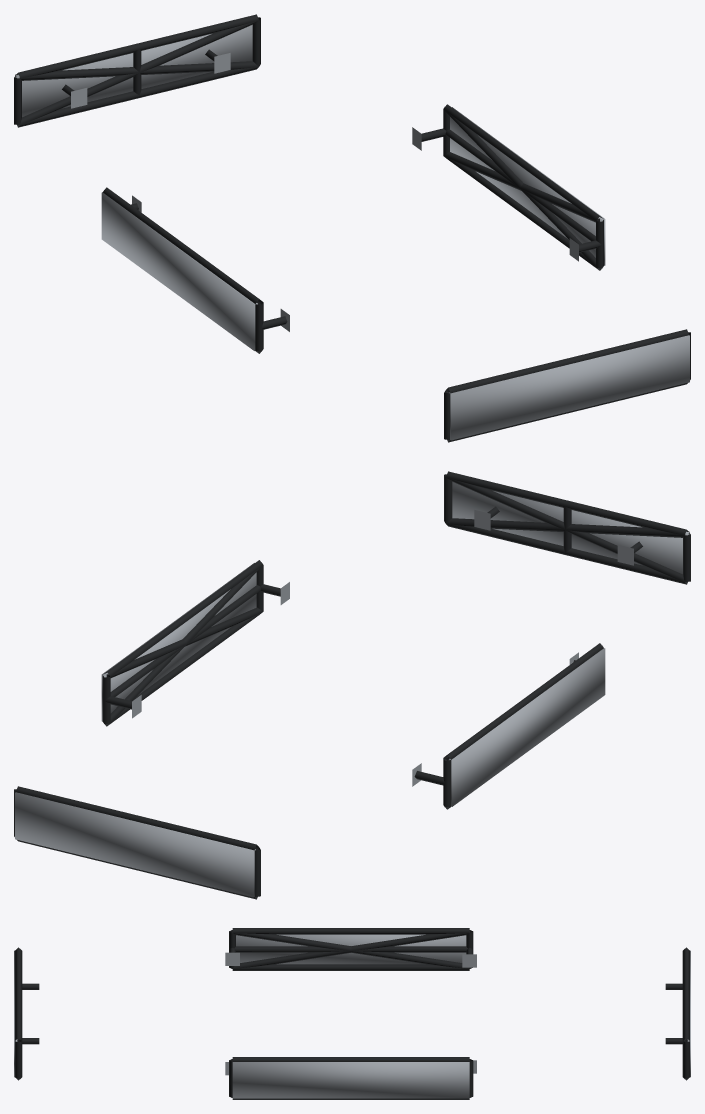
The model's file is corsalto_ocre_protecao.glb.
3 renders of one model, top to bottom at view 1: azimuth 30°, elevation 25°; view 2: azimuth 150°, elevation 25°; view 3: azimuth 270°, elevation 25°, orthographic. The views are drawn at different scales.
Parts seen in each view (by area): view 1: Protection_front_Level3_Details, Protection_left_Level3_Details, Protection_rear_Level3_Details, Protection_rear_Level1_Details, Protection_right_Level1_Details, Protection_rear_Level2_Details, Protection_right_Level2_Details, Protection_right_Level3_Details, Protection_front_Level1_Details, Protection_left_Level1_Details; view 2: Protection_rear_Level3_Details, Protection_left_Level3_Details, Protection_front_Level3_Details, Protection_front_Level1_Details, Protection_right_Level1_Details, Protection_front_Level2_Details, Protection_right_Level2_Details, Protection_right_Level3_Details, Protection_rear_Level1_Details, Protection_left_Level1_Details; view 3: Protection_right_Level3_Details, Protection_left_Level2_Details, Protection_left_Level3_Details, Protection_left_Level1_Details, Protection_right_Level1_Details, Protection_rear_Level1_Details, Protection_front_Level1_Details.
Boxes of the visible parts, <box> form: Protection_front_Level3_Details: <box>449,335,689,440</box>; Protection_left_Level3_Details: <box>101,192,257,350</box>; Protection_rear_Level3_Details: <box>15,25,252,117</box>; Protection_rear_Level1_Details: <box>14,14,260,127</box>; Protection_right_Level1_Details: <box>412,104,603,270</box>; Protection_rear_Level2_Details: <box>16,20,258,126</box>; Protection_right_Level2_Details: <box>443,109,603,270</box>; Protection_right_Level3_Details: <box>450,107,605,265</box>; Protection_front_Level1_Details: <box>444,329,690,442</box>; Protection_left_Level1_Details: <box>102,187,289,353</box>; Protection_rear_Level3_Details: <box>15,792,255,897</box>; Protection_left_Level3_Details: <box>448,648,605,806</box>; Protection_front_Level3_Details: <box>452,482,689,574</box>; Protection_front_Level1_Details: <box>444,471,690,584</box>; Protection_right_Level1_Details: <box>102,560,289,726</box>; Protection_front_Level2_Details: <box>446,477,688,583</box>; Protection_right_Level2_Details: <box>103,566,263,725</box>; Protection_right_Level3_Details: <box>101,563,256,721</box>; Protection_rear_Level1_Details: <box>14,786,260,899</box>; Protection_left_Level1_Details: <box>412,643,603,809</box>; Protection_right_Level3_Details: <box>232,1062,469,1098</box>; Protection_left_Level2_Details: <box>232,930,469,968</box>; Protection_left_Level3_Details: <box>236,934,466,964</box>; Protection_left_Level1_Details: <box>225,928,476,970</box>; Protection_right_Level1_Details: <box>225,1057,476,1099</box>; Protection_rear_Level1_Details: <box>665,947,689,1080</box>; Protection_front_Level1_Details: <box>15,947,39,1080</box>.
Bounding box in the file's own units: 2.36 × 0.354 × 5.08.
Materials: 1 (1 with a texture image).
